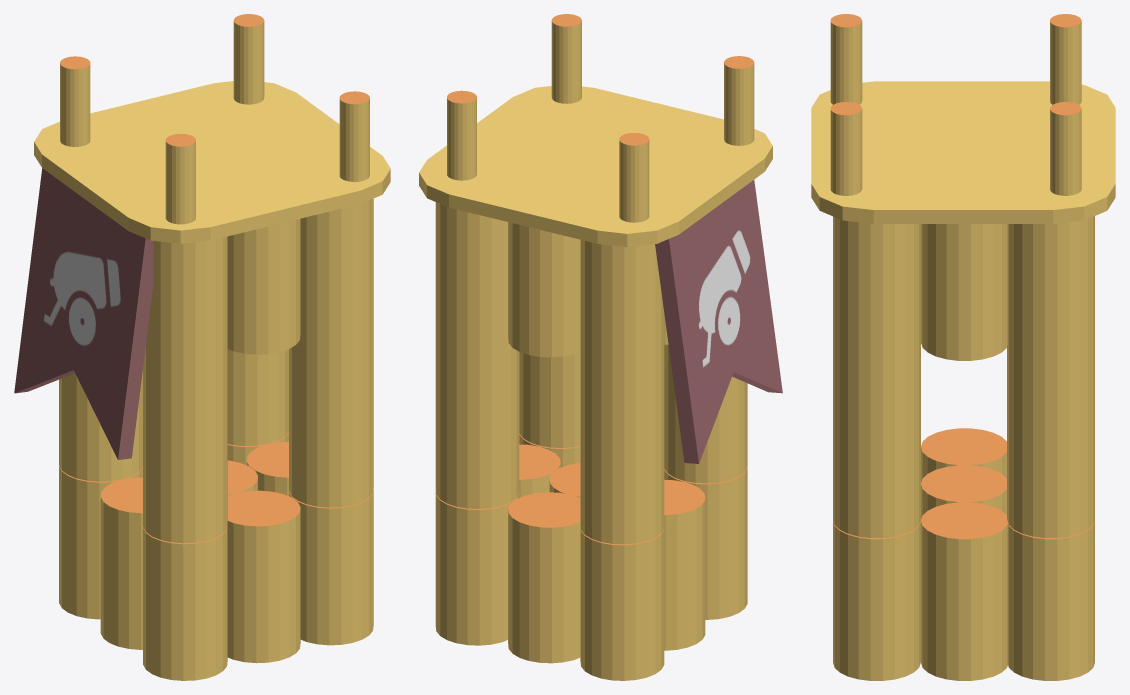
Rendered from Bomb_tower.fbx.
3 renders of one model, left to right at view 1: azimuth 30°, elevation 25°; view 2: azimuth 150°, elevation 25°; view 3: azimuth 270°, elevation 25°, orthographic. The views are drawn at different scales.
Parts seen in each view (by area): view 1: Cube.126, Cube.125, Cylinder.159, Cylinder.160, Cylinder.164, Cylinder.163, Cylinder.162, Cylinder.157, Cylinder.166, Cylinder.168, Cylinder.161, Cylinder.158 (+6 smaller); view 2: Cube.126, Cylinder.158, Cylinder.161, Cube.125, Cylinder.169, Cylinder.168, Cylinder.149, Cylinder.154, Cylinder.166, Cylinder.163, Cylinder.159, Cylinder.160 (+7 smaller); view 3: Cube.126, Cylinder.160, Cylinder.161, Cylinder.167, Cylinder.162, Cylinder.149, Cylinder.155, Cylinder.165, Cylinder.166, Cylinder.191, Cylinder.192, Cylinder.190 (+1 smaller).
Boxes of the visible parts, left/top/right/bottom form: Cube.126: left=34, top=81, right=390, bottom=243; Cube.125: left=14, top=168, right=153, bottom=459; Cylinder.159: left=143, top=236, right=227, bottom=543; Cylinder.160: left=289, top=198, right=373, bottom=507; Cylinder.164: left=227, top=490, right=300, bottom=663; Cylinder.163: left=143, top=525, right=227, bottom=680; Cylinder.162: left=289, top=489, right=373, bottom=645; Cylinder.157: left=227, top=218, right=300, bottom=354; Cylinder.166: left=100, top=477, right=143, bottom=649; Cylinder.168: left=59, top=466, right=142, bottom=619; Cylinder.161: left=227, top=349, right=288, bottom=445; Cylinder.158: left=59, top=370, right=142, bottom=481; Cube.126: left=419, top=86, right=772, bottom=247; Cylinder.158: left=580, top=239, right=664, bottom=544; Cylinder.161: left=435, top=202, right=519, bottom=508; Cube.125: left=655, top=180, right=782, bottom=463; Cylinder.169: left=508, top=492, right=580, bottom=663; Cylinder.168: left=580, top=526, right=664, bottom=680; Cylinder.149: left=435, top=491, right=519, bottom=645; Cylinder.154: left=508, top=222, right=580, bottom=357; Cylinder.166: left=664, top=480, right=705, bottom=650; Cylinder.163: left=664, top=468, right=747, bottom=619; Cylinder.159: left=664, top=344, right=747, bottom=483; Cylinder.160: left=519, top=352, right=580, bottom=447; Cube.126: left=811, top=81, right=1115, bottom=223; Cylinder.160: left=833, top=216, right=920, bottom=537; Cylinder.161: left=1007, top=216, right=1094, bottom=537; Cylinder.167: left=921, top=502, right=1007, bottom=680; Cylinder.162: left=833, top=520, right=920, bottom=680; Cylinder.149: left=1007, top=521, right=1094, bottom=680; Cylinder.155: left=921, top=224, right=1007, bottom=360; Cylinder.165: left=921, top=465, right=1006, bottom=519; Cylinder.166: left=921, top=428, right=1006, bottom=482; Cylinder.191: left=830, top=102, right=862, bottom=195; Cylinder.192: left=1050, top=102, right=1081, bottom=195; Cylinder.190: left=830, top=14, right=862, bottom=104.
Size of the model in its own units: 219 by 405 by 200.
